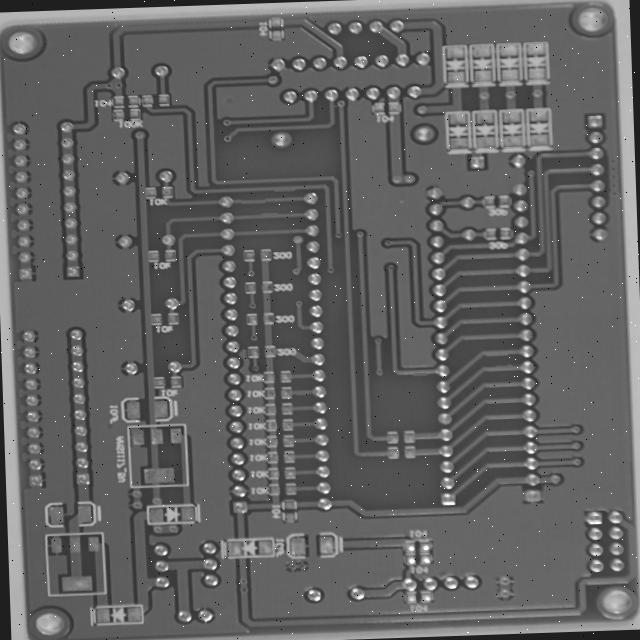spur: (255, 170, 286, 182), (397, 360, 422, 372), (485, 352, 508, 365), (241, 196, 265, 208), (278, 379, 299, 391)
